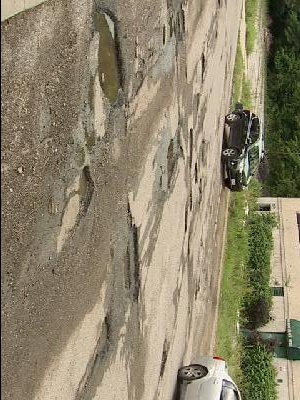pothole: (88, 3, 127, 109), (57, 160, 96, 243), (120, 200, 143, 303), (95, 312, 113, 359), (164, 136, 177, 190)
